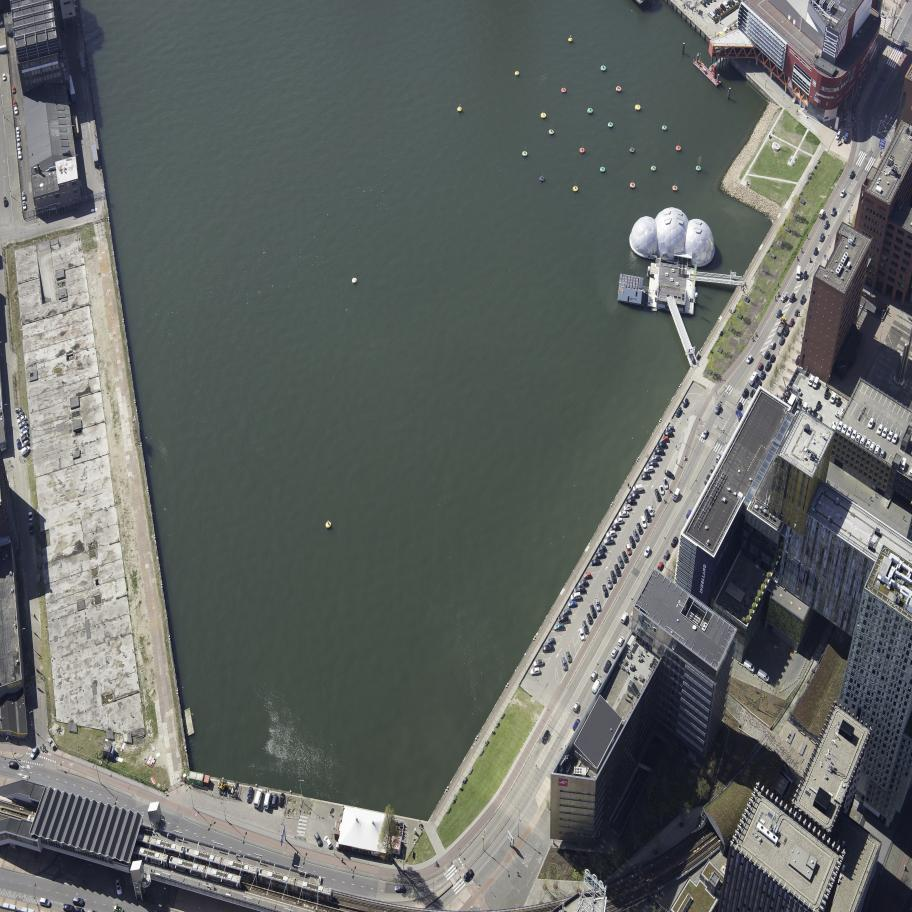large-vehicle: (116, 826, 337, 903), (70, 828, 245, 891), (775, 315, 789, 337)
small-vehicle: (755, 669, 773, 684), (741, 659, 758, 674), (590, 677, 603, 694), (539, 728, 552, 745), (461, 867, 475, 882), (253, 788, 263, 809), (747, 371, 760, 387), (262, 790, 272, 810), (312, 832, 324, 847), (19, 444, 32, 457), (791, 383, 804, 396), (29, 745, 40, 760), (671, 487, 682, 502), (114, 878, 123, 896), (71, 896, 85, 907), (38, 897, 52, 908), (571, 718, 582, 732), (663, 469, 676, 480), (779, 291, 790, 304), (323, 835, 333, 849), (532, 658, 546, 668), (602, 659, 612, 673), (619, 611, 629, 625), (735, 408, 745, 422), (246, 786, 254, 803), (899, 456, 907, 473), (15, 415, 28, 425), (631, 483, 644, 493), (557, 614, 570, 624), (609, 646, 619, 659), (569, 591, 582, 601), (642, 545, 652, 558), (669, 535, 679, 548), (713, 402, 723, 415), (577, 628, 586, 642), (593, 598, 602, 612), (643, 509, 652, 523), (653, 488, 662, 502), (811, 376, 820, 390), (834, 409, 845, 420), (278, 792, 286, 807), (714, 452, 724, 464), (639, 515, 648, 528), (529, 667, 542, 676), (542, 644, 555, 653), (573, 585, 586, 594), (867, 417, 876, 430), (807, 374, 816, 387), (652, 447, 665, 456), (601, 584, 609, 598), (617, 555, 625, 569), (19, 429, 30, 439), (17, 420, 29, 429), (572, 701, 581, 713), (589, 670, 598, 682), (577, 578, 589, 587), (674, 406, 683, 418), (703, 473, 712, 485), (662, 429, 674, 438), (656, 440, 668, 449), (880, 427, 889, 439), (800, 401, 809, 413), (271, 793, 278, 808), (843, 129, 850, 144), (565, 651, 573, 664), (589, 605, 597, 618), (605, 576, 613, 589), (613, 564, 621, 577), (621, 551, 629, 564), (628, 535, 636, 548), (661, 477, 669, 490), (647, 505, 655, 518), (876, 423, 884, 436), (845, 425, 853, 438), (886, 429, 894, 442), (707, 10, 717, 20), (15, 411, 26, 420), (19, 434, 30, 443), (20, 439, 31, 448), (7, 760, 18, 769), (616, 636, 625, 647), (868, 441, 877, 452), (774, 308, 783, 319), (814, 413, 823, 424), (787, 292, 796, 303), (817, 208, 826, 219), (822, 219, 831, 230), (794, 354, 803, 365), (561, 657, 568, 671), (582, 620, 589, 634), (610, 570, 617, 584), (632, 529, 640, 541), (605, 530, 617, 538), (553, 623, 565, 631), (603, 537, 615, 545), (859, 434, 867, 446), (778, 335, 786, 347), (823, 388, 831, 400), (829, 392, 837, 404), (840, 423, 848, 435), (850, 429, 858, 441), (835, 128, 843, 140), (891, 433, 899, 445), (795, 265, 801, 281), (878, 10, 888, 19), (745, 354, 754, 364), (810, 408, 818, 419), (394, 885, 405, 893), (610, 523, 621, 531), (19, 425, 30, 433), (590, 558, 601, 566), (595, 551, 606, 559), (782, 326, 790, 337), (864, 439, 872, 450), (764, 361, 772, 372), (701, 428, 709, 439), (651, 454, 662, 462), (647, 460, 658, 468), (643, 465, 654, 473), (640, 473, 651, 481), (741, 387, 749, 398), (754, 379, 762, 390), (814, 400, 822, 411), (836, 420, 844, 431), (799, 294, 807, 305), (636, 522, 643, 534), (586, 613, 593, 625), (614, 517, 624, 525), (626, 497, 636, 505), (567, 600, 577, 608), (629, 491, 639, 499), (597, 545, 607, 553), (685, 509, 693, 519), (682, 398, 690, 408), (763, 349, 771, 359), (656, 561, 664, 571), (805, 406, 813, 416), (878, 448, 886, 458), (839, 188, 847, 198), (788, 317, 796, 327), (709, 464, 717, 474), (625, 544, 632, 555), (874, 444, 881, 455), (759, 369, 766, 380), (658, 485, 665, 496), (835, 397, 842, 408), (796, 400, 803, 411), (21, 190, 27, 202), (583, 572, 592, 580), (722, 0, 730, 9), (769, 340, 777, 349), (663, 551, 671, 560), (848, 170, 856, 179), (546, 638, 556, 645), (562, 608, 572, 615), (665, 425, 675, 432), (689, 353, 696, 363), (769, 353, 776, 363), (749, 388, 756, 398), (830, 206, 837, 216), (818, 232, 825, 242), (17, 150, 23, 161), (2, 196, 8, 207), (618, 511, 629, 517), (802, 270, 808, 281), (29, 522, 34, 535), (623, 504, 632, 511), (736, 401, 743, 410), (720, 3, 727, 12), (757, 362, 764, 371), (794, 308, 801, 317), (829, 424, 838, 431), (831, 420, 840, 427), (16, 438, 21, 450), (28, 511, 33, 522), (13, 106, 19, 115), (813, 247, 819, 256), (22, 201, 27, 211), (700, 0, 707, 7), (714, 8, 721, 15), (717, 6, 724, 13), (661, 436, 669, 442), (15, 126, 20, 135), (16, 143, 21, 152), (11, 85, 16, 94), (712, 10, 718, 17), (727, 0, 733, 7), (12, 99, 17, 107), (2, 73, 6, 81), (16, 134, 20, 142)
